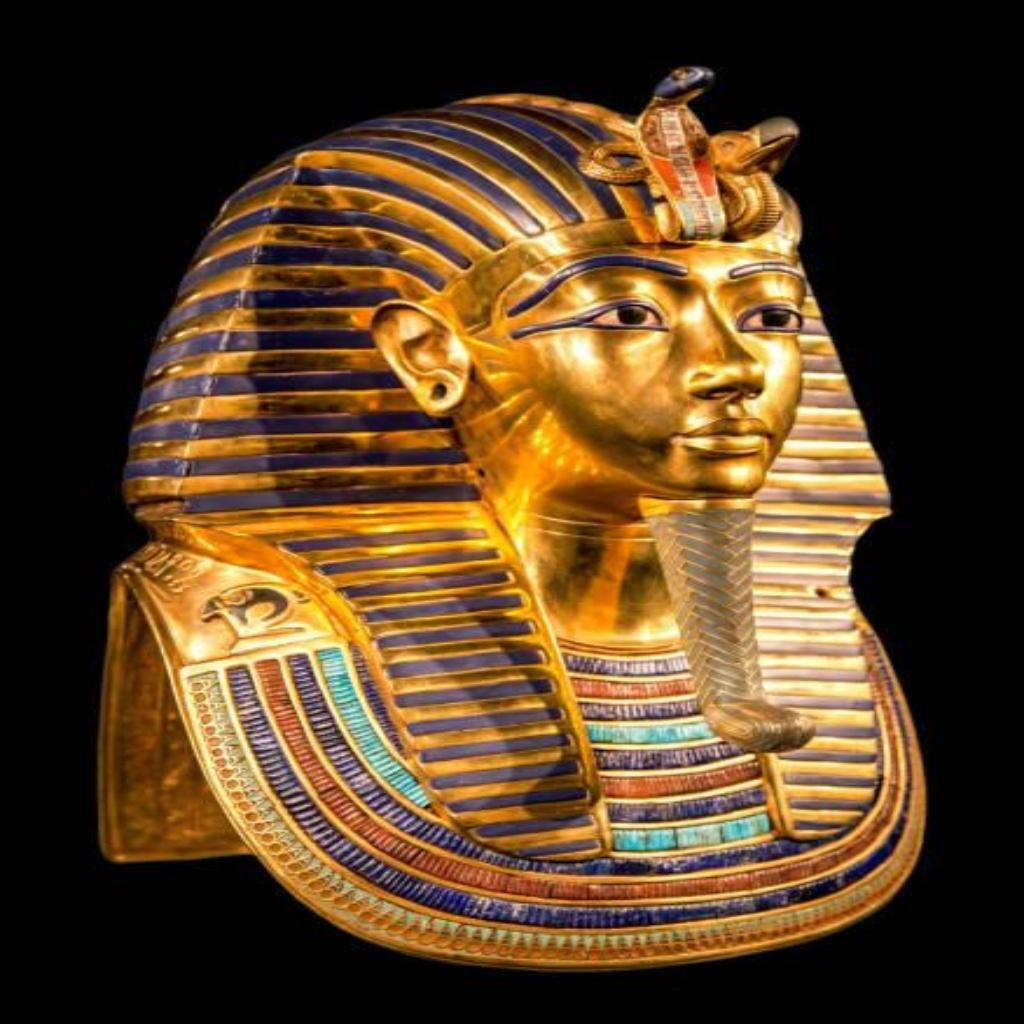Mask of Tutankhamun: (94, 64, 930, 972)
